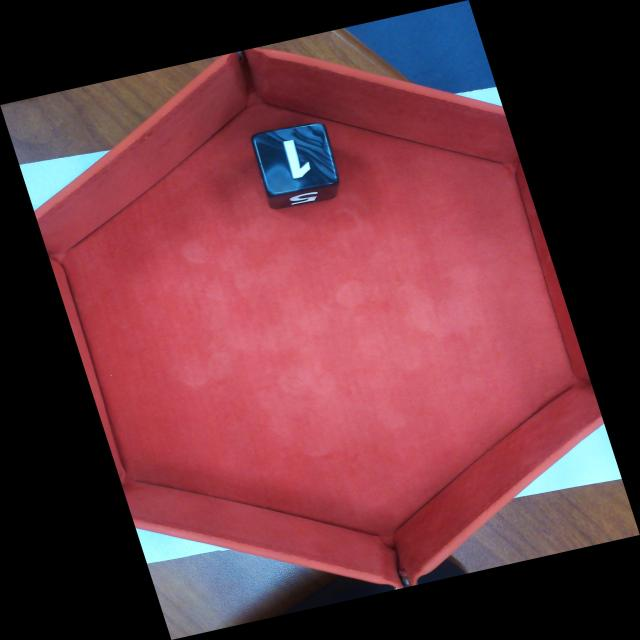dice: (251, 117, 342, 195)
